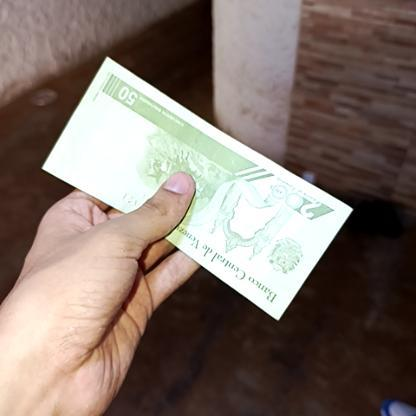fifty-back-vef: (40, 55, 355, 320)
